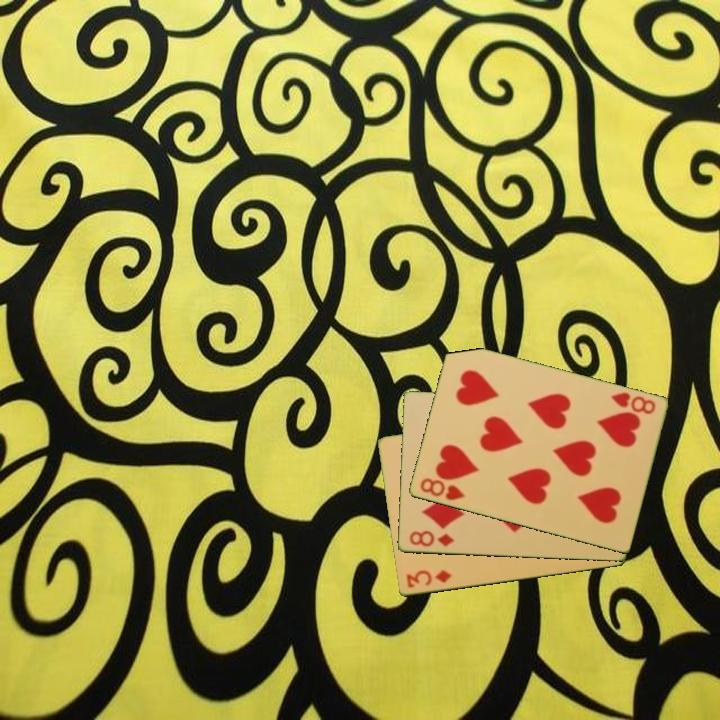3d: (402, 566, 454, 591)
8d: (406, 528, 457, 549)
8h: (416, 475, 468, 504), (607, 389, 658, 417)
